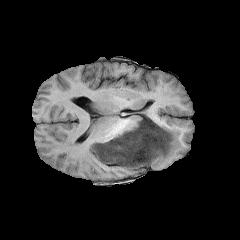glioma: (89, 111, 180, 168)
